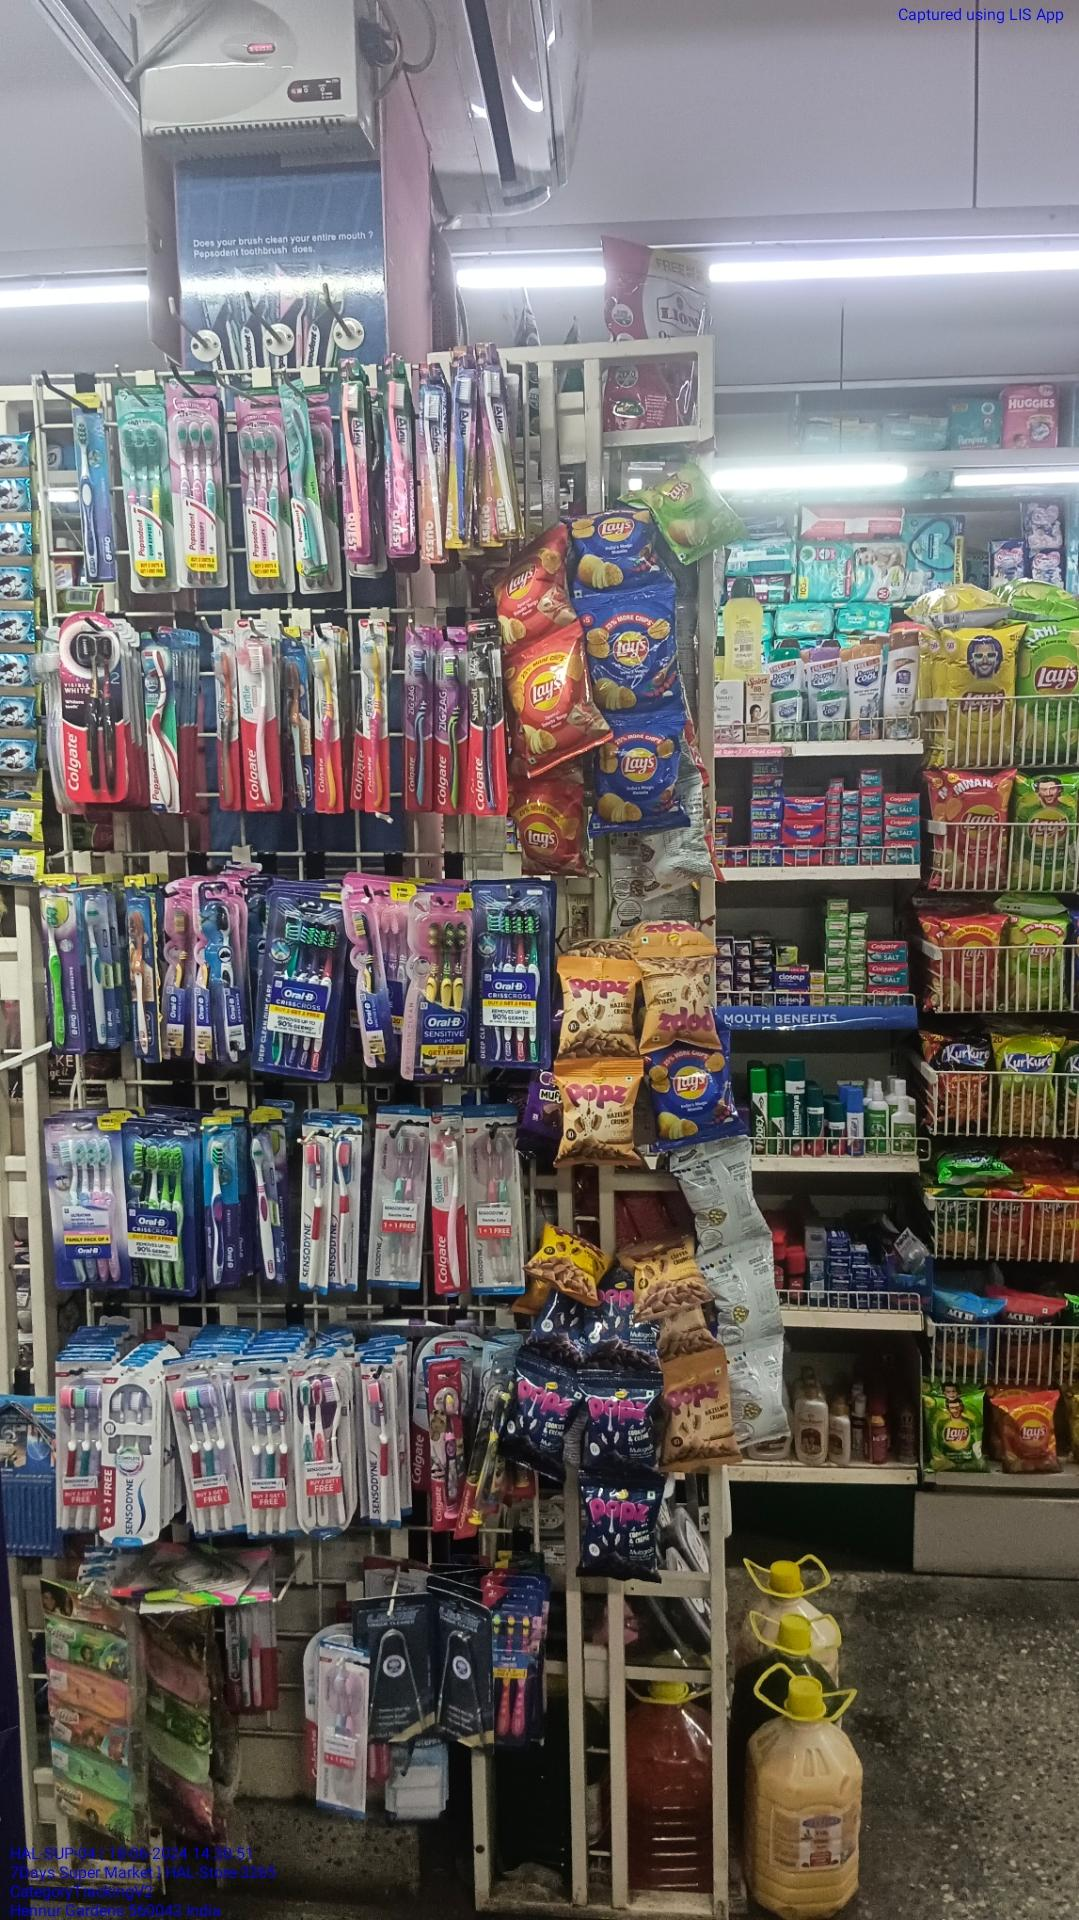11: (115, 394, 169, 593)
12: (235, 385, 290, 592), (170, 377, 224, 588)
4: (103, 1364, 158, 1548)
6: (295, 1353, 347, 1542)
7: (365, 1105, 426, 1290), (467, 1112, 524, 1295), (313, 1643, 365, 1816)
8: (174, 1358, 237, 1535), (240, 1365, 290, 1536), (54, 1356, 100, 1531)
soap: (466, 618, 505, 816)
